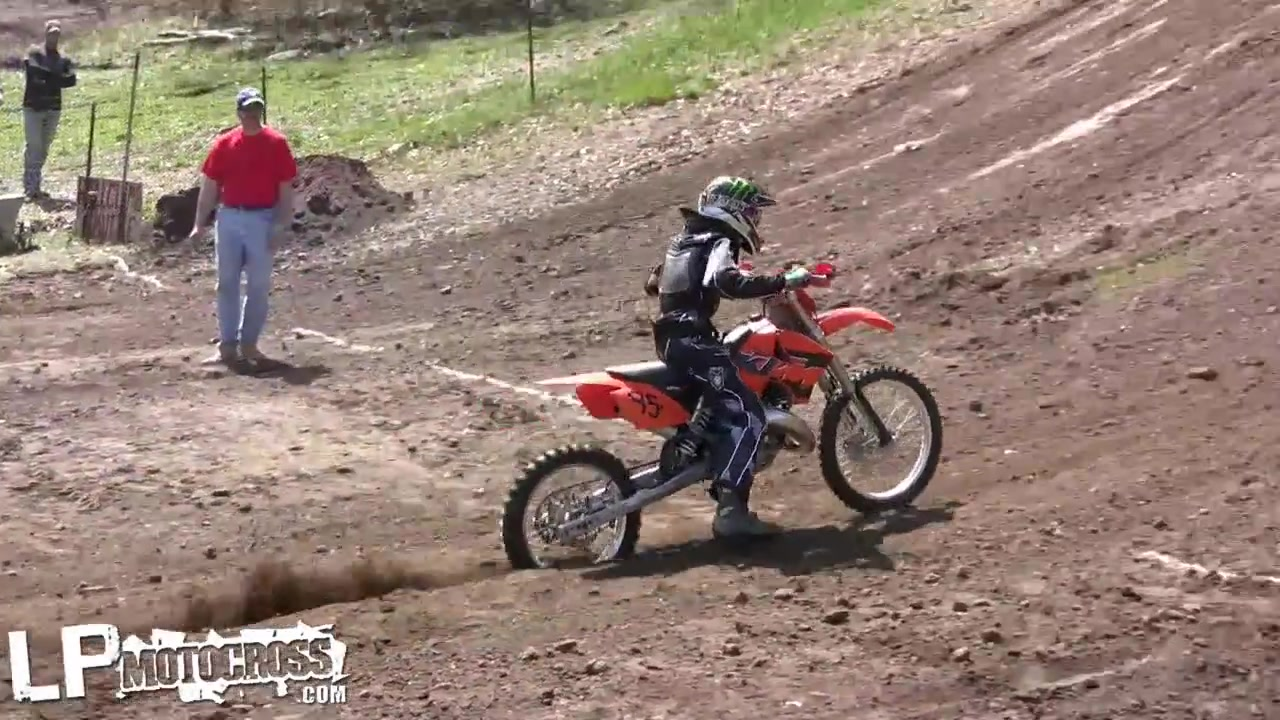motorbike: (501, 263, 948, 577)
